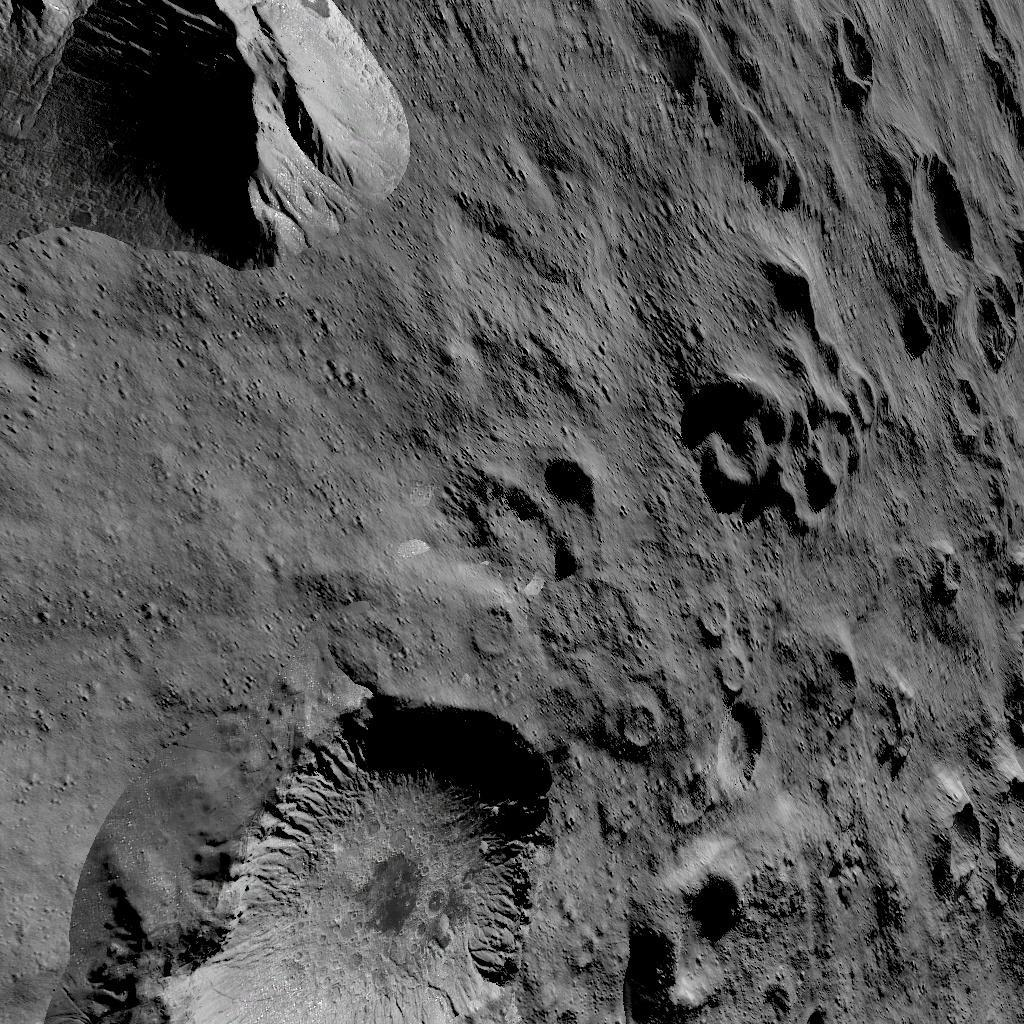Boulders: (0, 0, 411, 270)
Crater: (59, 692, 562, 1024), (657, 162, 1014, 528), (448, 444, 626, 602), (619, 850, 756, 1018), (793, 646, 937, 770), (906, 790, 1008, 904), (816, 12, 896, 110)
Plan surface: (1, 292, 421, 678)
